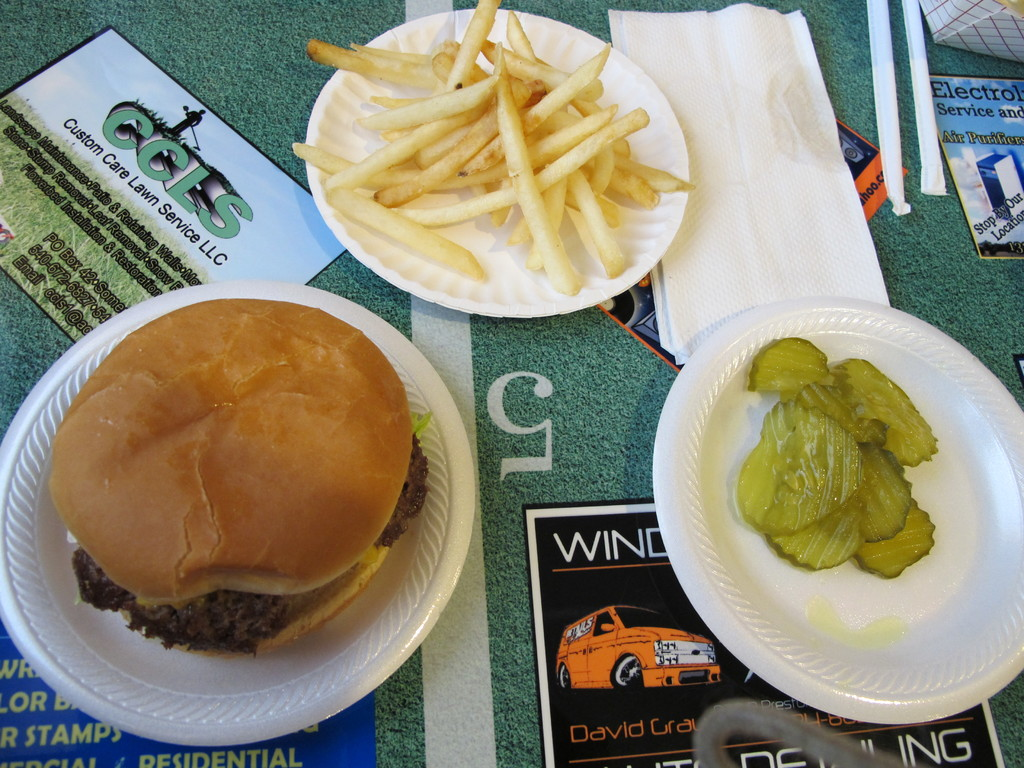French fries: (301, 20, 691, 307)
